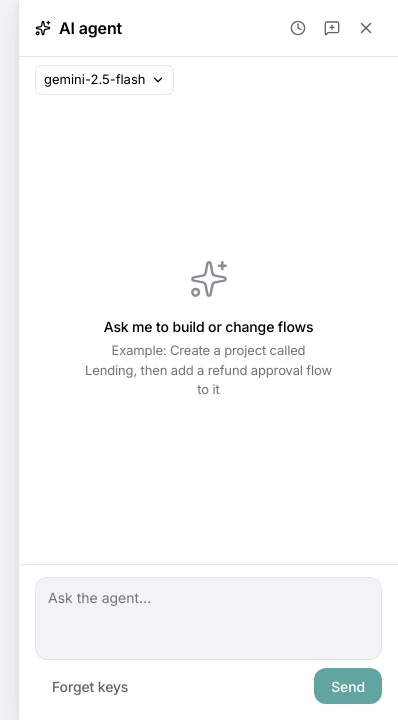
Scenario: AgentPanel › keeps working when chat history cannot be saved
In the text box named "Message": (208, 619) [35, 577, 382, 660], type "hi"
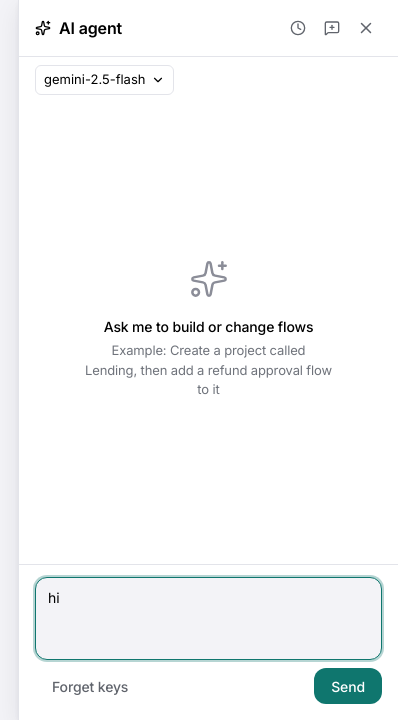
Click the button "Send": (348, 686) [314, 668, 382, 704]
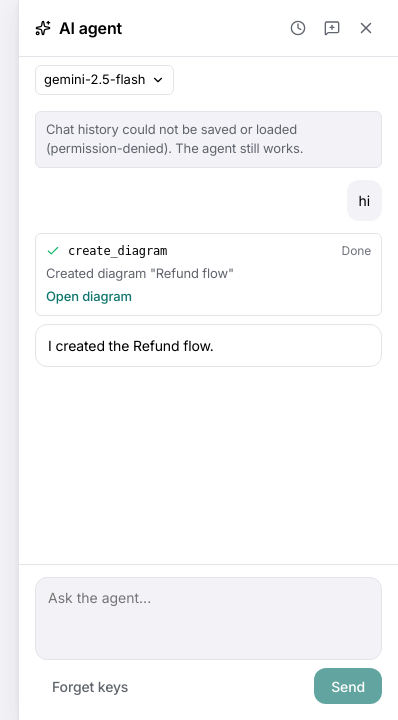
Check: the text "I created the Refund flow." is shown, box [35, 324, 382, 366]
Check: the text "Chat history could not be saved" is shown, box [46, 120, 303, 156]
